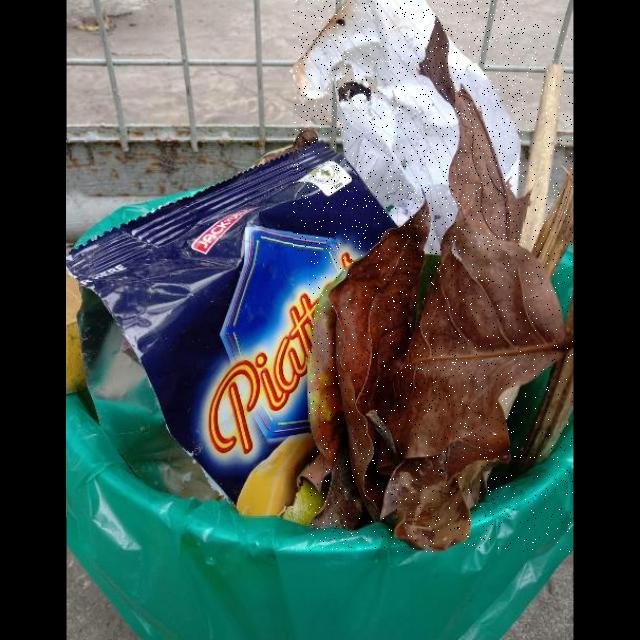biowaste: (309, 18, 573, 552)
paper: (293, 0, 524, 251)
wrapper: (66, 140, 398, 517)
